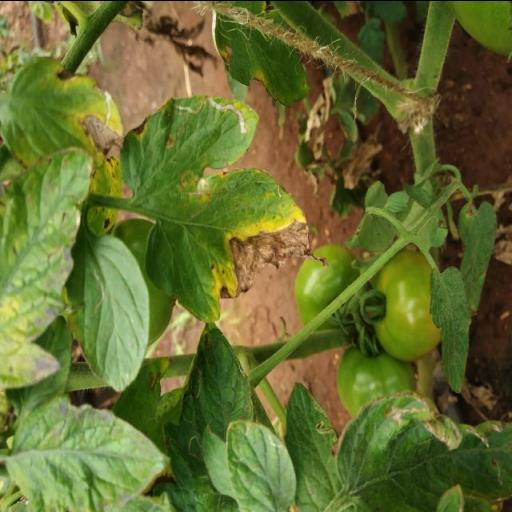Early Blight: (140, 168, 332, 322)
